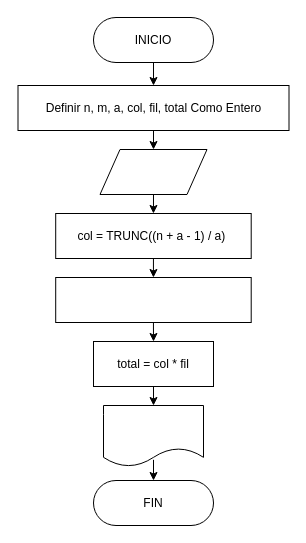
Some shapes in this 306 by 543 pixel diagram are drawn without their labels. The box of each missing label's shape, as (x1, y1, x2, y2) in pixels:
fil = TRUNC((m + a - 1) / a): (55, 276, 251, 322)
n, m, a: (99, 148, 207, 194)
total: (102, 404, 204, 466)
